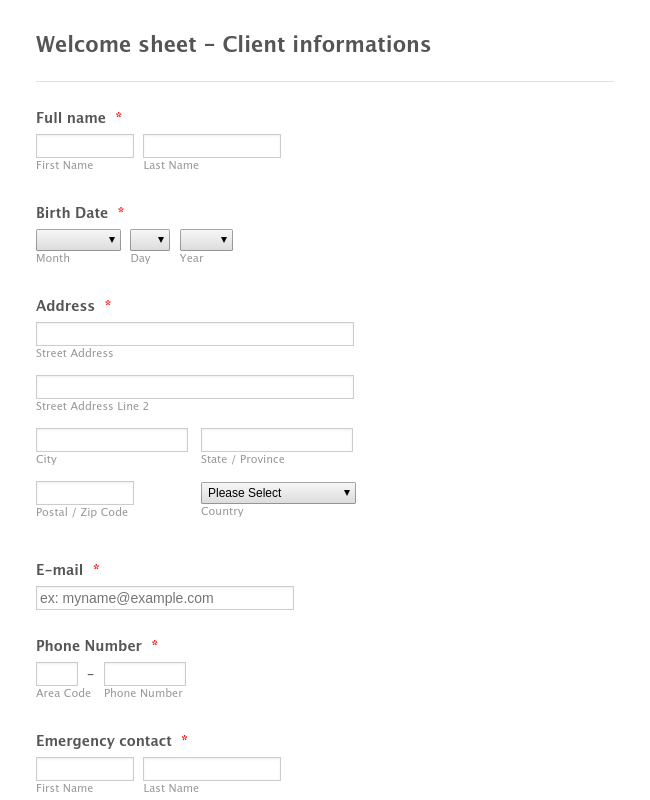textbox: (29, 371, 358, 404), (33, 316, 359, 348), (198, 421, 359, 459), (30, 422, 191, 457), (139, 749, 289, 786), (140, 130, 286, 165), (28, 751, 139, 786), (28, 129, 137, 160), (31, 479, 141, 509), (97, 657, 194, 690), (31, 659, 81, 690)
